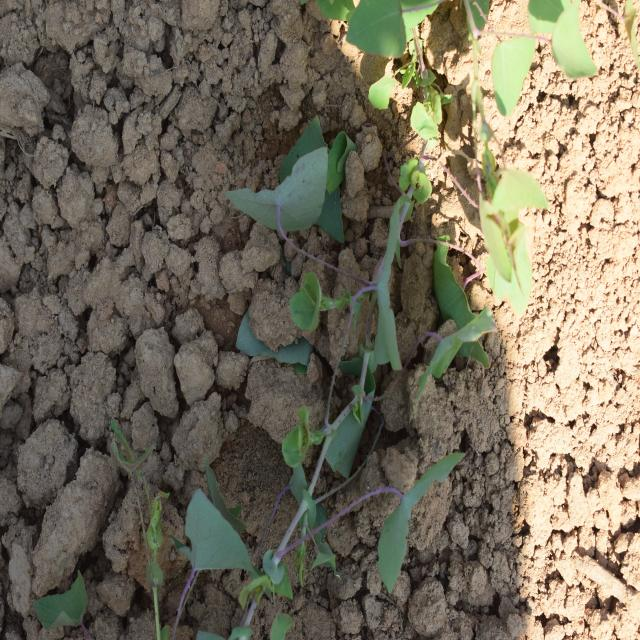Asiatic_Smartweed: (225, 98, 417, 367), (174, 450, 273, 618), (361, 420, 460, 577)
